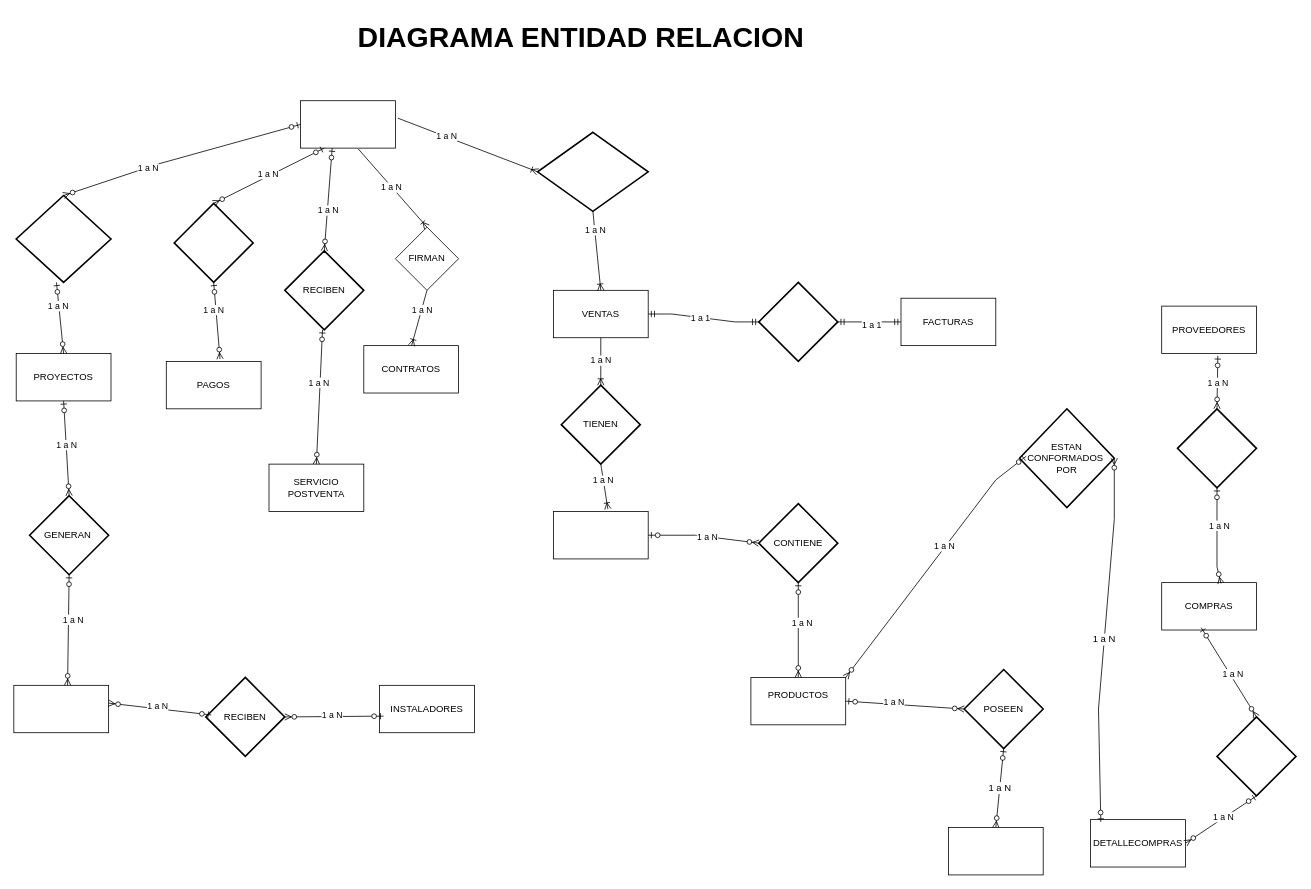
Image size: 1311x889. Some labels were removed from this diagram. Here are the shapes that lost their labels. From the top down, the centre of each, then its label:
At pixel 347 124: "CLIENTES".
At pixel 592 171: "AL COMPRAR SE REALIZAN".
At pixel 63 238: "SE INSCRIBEN EN".
At pixel 213 242: "REALIZAN".
At pixel 798 321: "SE REALIZA".
At pixel 1216 448: "RECIBEN ORDEN DE".
At pixel 600 535: "DETALLEVENTAS".
At pixel 61 709: "ORDENES DE TRABAJO".
At pixel 1256 756: "CONTIENEN".
At pixel 995 851: "MONITOREO DE EQUIPOS".
